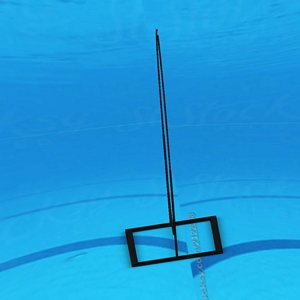circle: (124, 25, 225, 269)
